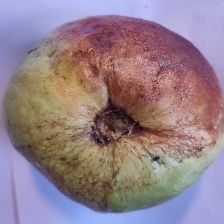guava: (54, 31, 196, 172)
